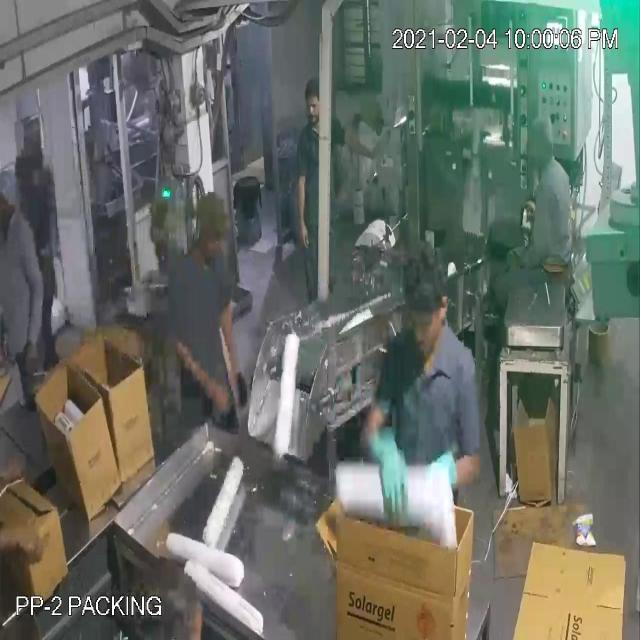gloves: (354, 422, 405, 511)
no-gloves: (158, 319, 232, 424), (16, 252, 51, 382), (1, 495, 53, 579), (209, 290, 249, 383), (290, 159, 318, 259), (337, 126, 381, 174)
